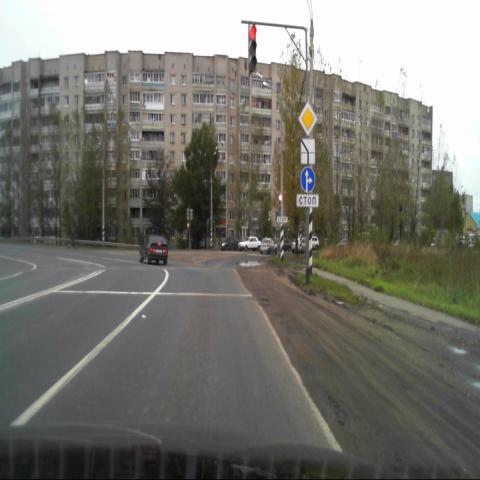4_1_4: (300, 164, 316, 192)
